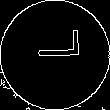L_W: (29, 38, 81, 72)
